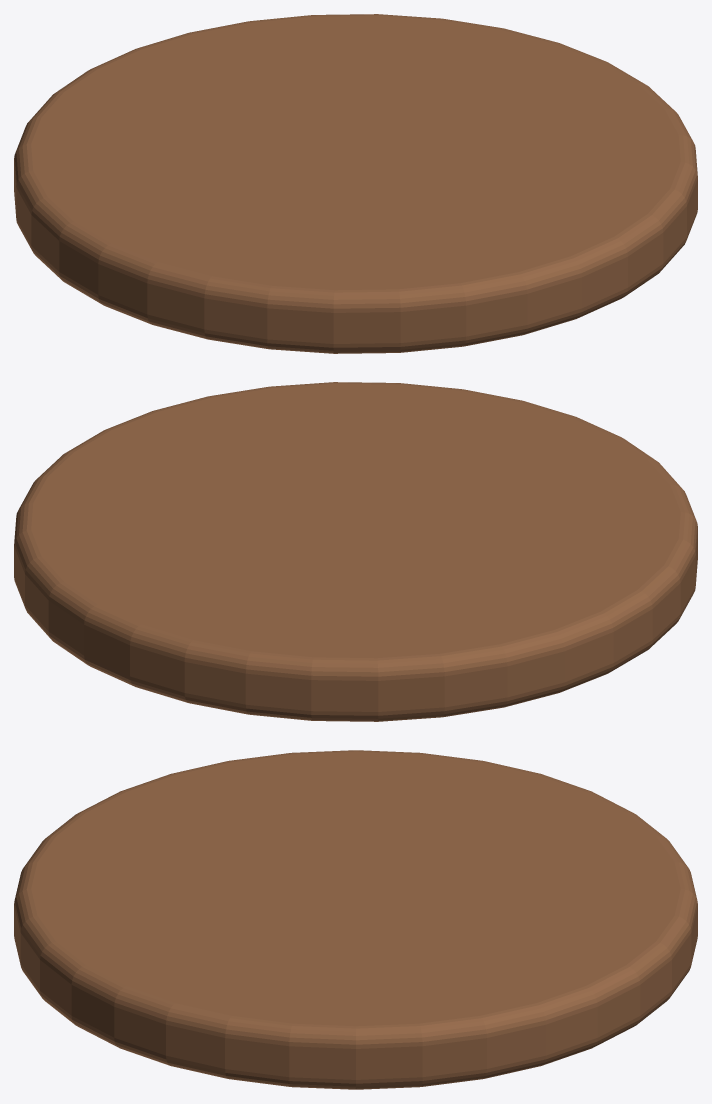
File: table.glb
3 renders of one model, top to bottom at view 1: azimuth 30°, elevation 25°; view 2: azimuth 150°, elevation 25°; view 3: azimuth 270°, elevation 25°, orthographic.
Visible parts, largest first — view 1: TableBase; view 2: TableBase; view 3: TableBase.
Part boxes in pixels (x1,y1,x2,y2): TableBase: (14,14,697,353); TableBase: (14,382,697,721); TableBase: (14,750,697,1089).
Bounding box in the file's own units: 20 × 2 × 20.
